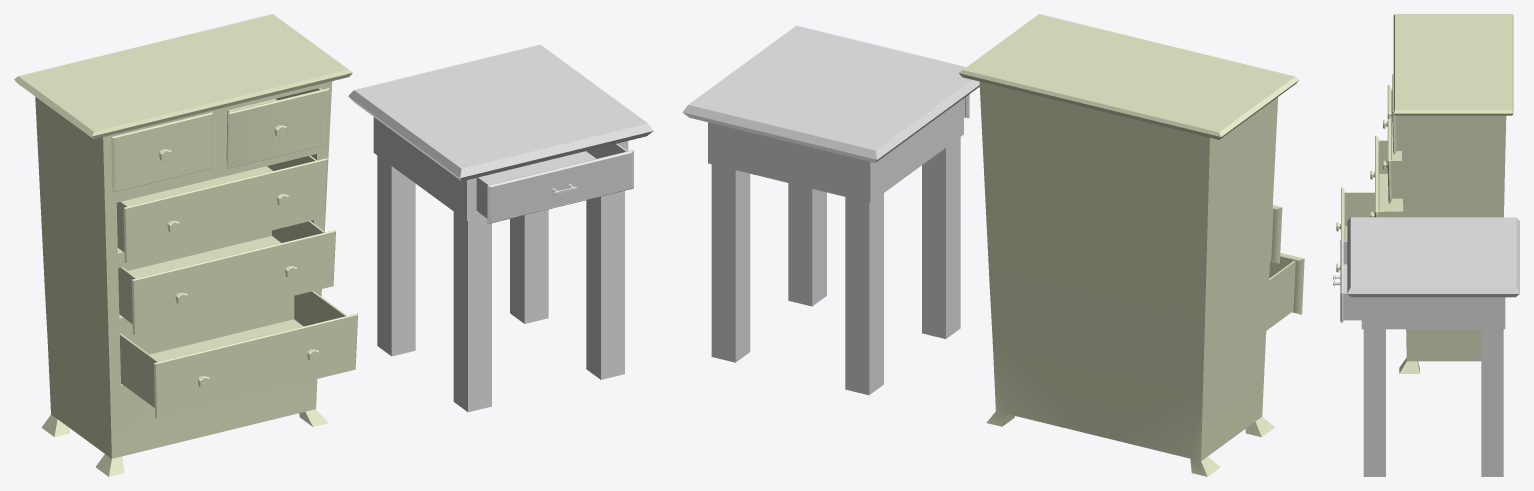
The model's file is problematicos.fbx.
The picture shows the model from 3 angles, left to right: view 1: azimuth 30°, elevation 25°; view 2: azimuth 150°, elevation 25°; view 3: azimuth 270°, elevation 25°; orthographic projection. The views are drawn at different scales.
Parts seen in each view (by area): view 1: Comoda, Estante; view 2: Comoda, Estante; view 3: Comoda, Estante.
Part boxes in pixels (x1,y1,x2,y2): Comoda: [14, 14, 358, 476]; Estante: [348, 44, 653, 412]; Comoda: [959, 14, 1304, 476]; Estante: [682, 25, 979, 395]; Comoda: [1336, 14, 1513, 373]; Estante: [1333, 217, 1519, 476].
Size of the model in its own units: 9629 by 6085 by 3798.
